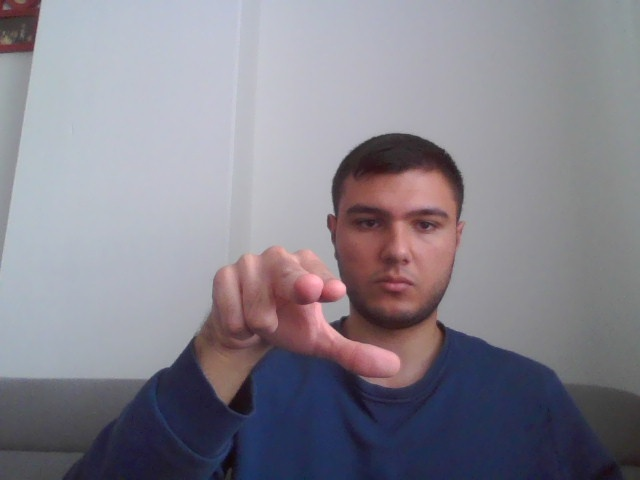no: (202, 244, 406, 381)
